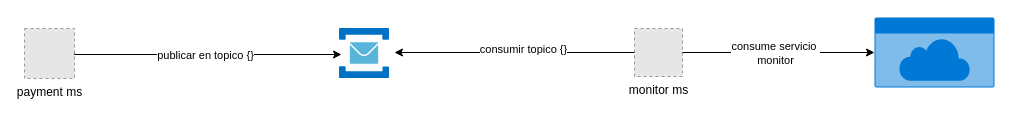
Some shapes in this 1012 by 129 pixel diagram are drawn without their labels. Grey dashed boxes stand in for pictures. Each missing label, with the centre of its shape:
"apis monitor" belongs at (x=934, y=52).
"service bus azure" belongs at (x=364, y=53).
